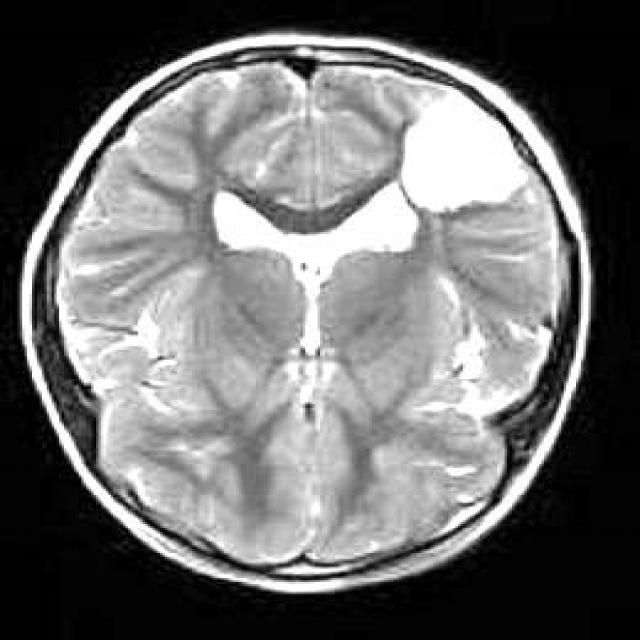Tumor: (403, 87, 531, 210)
